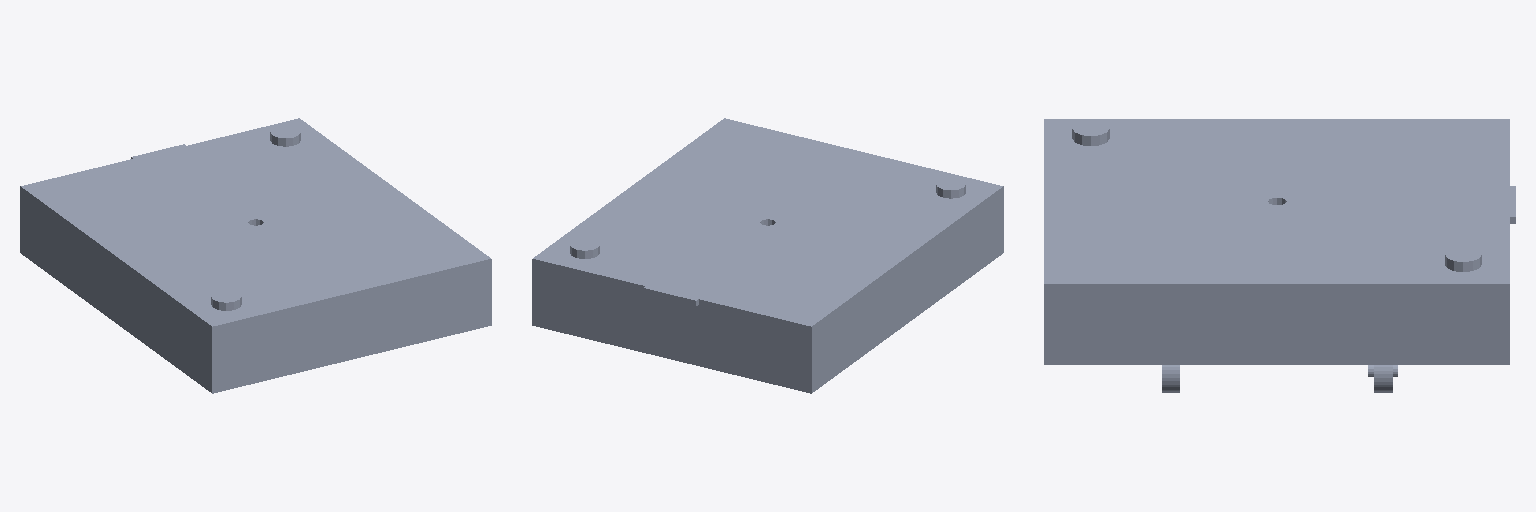
The robot description file, URDF, robot "agv_real":
<?xml version="1.0" encoding="utf-8"?>
<!-- This URDF was automatically created by SolidWorks to URDF Exporter! Originally created by [author] ([email redacted]) 
     Commit Version: 1.5.1-0-g916b5db  Build Version: 1.5.7152.31018
     For more information, please see http://wiki.ros.org/sw_urdf_exporter -->
<robot
  name="agv_real">
  <link
    name="base_footprint">
  </link>
  <link
    name="base_link">
    <inertial>
      <origin
        xyz="-4.16333634234434E-17 0.000119875147478033 -0.120056933559523"
        rpy="0 0 0" />
      <mass
        value="1.2" />
        <inertia
        ixx="1"
        ixy="0"
        ixz="0"
        iyy="1"
        iyz="0"
        izz="1" />
    </inertial>
    <visual>
      <origin
        xyz="0 0 0"
        rpy="0 0 0" />
      <geometry>
        <mesh
          filename="package://agv_real/meshes/base_link.STL" />
      </geometry>
      <material
        name="">
        <color
          rgba="0.666666666666667 0.698039215686274 0.768627450980392 1" />
      </material>
    </visual>
    <collision>
      <origin
        xyz="0 0 0"
        rpy="0 0 0" />
      <geometry>
        <mesh
          filename="package://agv_real/meshes/base_link.STL" />
      </geometry>
    </collision>
  </link>
  <joint
    name="foot2base"
    type="fixed">
    <origin
      xyz="0 0 0.3925"
      rpy="0 0 0" />
    <parent
      link="base_footprint" />
    <child
      link="base_link" />
    <axis
      xyz="0 0 0" />
  </joint>
  <link
    name="link_turn_1">
    <inertial>
      <origin
        xyz="0.00977957605544538 0 -0.0221025781959049"
        rpy="0 0 0" />
      <mass
        value="1.51073323776649" />
      <inertia
        ixx="0.00254264312406574"
        ixy="1.1275177792891E-19"
        ixz="0.000824346714844698"
        iyy="0.00283404681054336"
        iyz="-2.1574660967174E-19"
        izz="0.00237535494219059" />
    </inertial>
    <visual>
      <origin
        xyz="0 0 0"
        rpy="0 0 0" />
      <geometry>
        <mesh
          filename="package://agv_real/meshes/link_turn_1.STL" />
      </geometry>
      <material
        name="">
        <color
          rgba="0.666666666666667 0.698039215686274 0.768627450980392 1" />
      </material>
    </visual>
    <collision>
      <origin
        xyz="0 0 0"
        rpy="0 0 0" />
      <geometry>
        <mesh
          filename="package://agv_real/meshes/link_turn_1.STL" />
      </geometry>
    </collision>
  </link>
  <joint
    name="joint_turn_1"
    type="continuous">
    <origin
      xyz="0.30003 0.28496 -0.241"
      rpy="0 0 0" />
    <parent
      link="base_link" />
    <child
      link="link_turn_1" />
    <axis
      xyz="0 0 1" />

  </joint>
  <link
    name="link_wheel_1">
    <inertial>
      <origin
        xyz="0 0 5.55111512312578E-17"
        rpy="0 0 0" />
      <mass
        value="1.61428775009303" />
      <inertia
        ixx="0.0019531200226386"
        ixy="-1.03817629223929E-22"
        ixz="-1.2831782859717E-20"
        iyy="0.0019531200226386"
        iyz="6.23742612149849E-20"
        izz="0.00323362014940511" />
    </inertial>
    <visual>
      <origin
        xyz="0 0 0"
        rpy="0 0 0" />
      <geometry>
        <mesh
          filename="package://agv_real/meshes/link_wheel_1.STL" />
      </geometry>
      <material
        name="">
        <color
          rgba="0.666666666666667 0.698039215686274 0.768627450980392 1" />
      </material>
    </visual>
    <collision>
      <origin
        xyz="0 0 0"
        rpy="0 0 0" />
      <geometry>
        <mesh
          filename="package://agv_real/meshes/link_wheel_1.STL" />
      </geometry>
    </collision>
  </link>
  <joint
    name="joint_wheel_1"
    type="continuous">
    <origin
      xyz="0.0625 0 -0.089"
      rpy="1.5708 0 3.1416" />
    <parent
      link="link_turn_1" />
    <child
      link="link_wheel_1" />
    <axis
      xyz="0 0 1" />
  </joint>
  <link
    name="link_turn_2">
    <inertial>
      <origin
        xyz="0.00977957605544538 5.55111512312578E-17 -0.022102578195905"
        rpy="0 0 0" />
      <mass
        value="1.51073323776649" />
      <inertia
        ixx="0.00254264312406574"
        ixy="9.05562260497264E-19"
        ixz="0.000824346714844697"
        iyy="0.00283404681054336"
        iyz="-1.385927775418E-18"
        izz="0.00237535494219059" />
    </inertial>
    <visual>
      <origin
        xyz="0 0 0"
        rpy="0 0 0" />
      <geometry>
        <mesh
          filename="package://agv_real/meshes/link_turn_2.STL" />
      </geometry>
      <material
        name="">
        <color
          rgba="0.666666666666667 0.698039215686274 0.768627450980392 1" />
      </material>
    </visual>
    <collision>
      <origin
        xyz="0 0 0"
        rpy="0 0 0" />
      <geometry>
        <mesh
          filename="package://agv_real/meshes/link_turn_2.STL" />
      </geometry>
    </collision>
  </link>
  <joint
    name="joint_turn_2"
    type="continuous">
    <origin
      xyz="-0.30003 0.28496 -0.241"
      rpy="0 0 0" />
    <parent
      link="base_link" />
    <child
      link="link_turn_2" />
    <axis
      xyz="0 0 1" />

  </joint>
  <link
    name="link_wheel_2">
    <inertial>
      <origin
        xyz="-5.55111512312578E-17 0 5.55111512312578E-17"
        rpy="0 0 0" />
      <mass
        value="1.61428775009303" />
      <inertia
        ixx="0.0019531200226386"
        ixy="-1.42089143883198E-34"
        ixz="-1.23558270378388E-20"
        iyy="0.0019531200226386"
        iyz="1.87050615219907E-21"
        izz="0.00323362014940511" />
    </inertial>
    <visual>
      <origin
        xyz="0 0 0"
        rpy="0 0 0" />
      <geometry>
        <mesh
          filename="package://agv_real/meshes/link_wheel_2.STL" />
      </geometry>
      <material
        name="">
        <color
          rgba="0.666666666666667 0.698039215686274 0.768627450980392 1" />
      </material>
    </visual>
    <collision>
      <origin
        xyz="0 0 0"
        rpy="0 0 0" />
      <geometry>
        <mesh
          filename="package://agv_real/meshes/link_wheel_2.STL" />
      </geometry>
    </collision>
  </link>
  <joint
    name="joint_wheel_2"
    type="continuous">
    <origin
      xyz="0.0625 0 -0.089"
      rpy="1.5708 0 3.1416" />
    <parent
      link="link_turn_2" />
    <child
      link="link_wheel_2" />
    <axis
      xyz="0 0 1" />
  </joint>
  <link
    name="link_turn_3">
    <inertial>
      <origin
        xyz="0.00977957605544538 0 -0.022102578195905"
        rpy="0 0 0" />
      <mass
        value="1.51073323776649" />
      <inertia
        ixx="0.00254264312406574"
        ixy="-1.26097210048081E-19"
        ixz="0.000824346714844698"
        iyy="0.00283404681054336"
        iyz="2.16794722339323E-19"
        izz="0.00237535494219059" />
    </inertial>
    <visual>
      <origin
        xyz="0 0 0"
        rpy="0 0 0" />
      <geometry>
        <mesh
          filename="package://agv_real/meshes/link_turn_3.STL" />
      </geometry>
      <material
        name="">
        <color
          rgba="0.666666666666667 0.698039215686274 0.768627450980392 1" />
      </material>
    </visual>
    <collision>
      <origin
        xyz="0 0 0"
        rpy="0 0 0" />
      <geometry>
        <mesh
          filename="package://agv_real/meshes/link_turn_3.STL" />
      </geometry>
    </collision>
  </link>
  <joint
    name="joint_turn_3"
    type="continuous">
    <origin
      xyz="-0.30003 -0.28496 -0.241"
      rpy="0 0 0" />
    <parent
      link="base_link" />
    <child
      link="link_turn_3" />
    <axis
      xyz="0 0 1" />

  </joint>
  <link
    name="link_wheel_3">
    <inertial>
      <origin
        xyz="0 2.77555756156289E-17 5.55111512312578E-17"
        rpy="0 0 0" />
      <mass
        value="1.61428775009303" />
      <inertia
        ixx="0.0019531200226386"
        ixy="8.25422893665097E-35"
        ixz="-1.23558270378389E-20"
        iyy="0.0019531200226386"
        iyz="3.42695163846761E-20"
        izz="0.00323362014940511" />
    </inertial>
    <visual>
      <origin
        xyz="0 0 0"
        rpy="0 0 0" />
      <geometry>
        <mesh
          filename="package://agv_real/meshes/link_wheel_3.STL" />
      </geometry>
      <material
        name="">
        <color
          rgba="0.666666666666667 0.698039215686274 0.768627450980392 1" />
      </material>
    </visual>
    <collision>
      <origin
        xyz="0 0 0"
        rpy="0 0 0" />
      <geometry>
        <mesh
          filename="package://agv_real/meshes/link_wheel_3.STL" />
      </geometry>
    </collision>
  </link>
  <joint
    name="joint_wheel_3"
    type="continuous">
    <origin
      xyz="0.0625 0 -0.089"
      rpy="1.5708 0 3.1416" />
    <parent
      link="link_turn_3" />
    <child
      link="link_wheel_3" />
    <axis
      xyz="0 0 1" />
  </joint>
  <link
    name="link_turn_4">
    <inertial>
      <origin
        xyz="0.00977957605544538 -5.55111512312578E-17 -0.0221025781959049"
        rpy="0 0 0" />
      <mass
        value="1.51073323776649" />
      <inertia
        ixx="0.00254264312406573"
        ixy="1.97818720467024E-19"
        ixz="0.000824346714844697"
        iyy="0.00283404681054336"
        iyz="-4.17435819027717E-19"
        izz="0.00237535494219059" />
    </inertial>
    <visual>
      <origin
        xyz="0 0 0"
        rpy="0 0 0" />
      <geometry>
        <mesh
          filename="package://agv_real/meshes/link_turn_4.STL" />
      </geometry>
      <material
        name="">
        <color
          rgba="0.666666666666667 0.698039215686274 0.768627450980392 1" />
      </material>
    </visual>
    <collision>
      <origin
        xyz="0 0 0"
        rpy="0 0 0" />
      <geometry>
        <mesh
          filename="package://agv_real/meshes/link_turn_4.STL" />
      </geometry>
    </collision>
  </link>
  <joint
    name="joint_turn_4"
    type="continuous">
    <origin
      xyz="0.30003 -0.28496 -0.241"
      rpy="0 0 0" />
    <parent
      link="base_link" />
    <child
      link="link_turn_4" />
    <axis
      xyz="0 0 1" />

  </joint>
  <link
    name="link_wheel_4">
    <inertial>
      <origin
        xyz="0 2.77555756156289E-17 1.66533453693773E-16"
        rpy="0 0 0" />
      <mass
        value="1.61428775009303" />
      <inertia
        ixx="0.0019531200226386"
        ixy="-1.44141714161091E-33"
        ixz="-1.23558270378386E-20"
        iyy="0.0019531200226386"
        iyz="-3.24343282116005E-20"
        izz="0.00323362014940511" />
    </inertial>
    <visual>
      <origin
        xyz="0 0 0"
        rpy="0 0 0" />
      <geometry>
        <mesh
          filename="package://agv_real/meshes/link_wheel_4.STL" />
      </geometry>
      <material
        name="">
        <color
          rgba="0.666666666666667 0.698039215686274 0.768627450980392 1" />
      </material>
    </visual>
    <collision>
      <origin
        xyz="0 0 0"
        rpy="0 0 0" />
      <geometry>
        <mesh
          filename="package://agv_real/meshes/link_wheel_4.STL" />
      </geometry>
    </collision>
  </link>
  <joint
    name="joint_wheel_4"
    type="continuous">
    <origin
      xyz="0.0625 0 -0.089"
      rpy="1.5708 0 3.1416" />
    <parent
      link="link_turn_4" />
    <child
      link="link_wheel_4" />
    <axis
      xyz="0 0 1" />
  </joint>

<!-- 雷达 -->

  <link
  name="laser_1">
  </link>

  
  <joint
    name="joint_laser_1"
    type="fixed">
    <origin
      xyz="0.586 0.486 0.04"
      rpy="3.1415 0 0.70" />
    <parent
      link="base_link" />
    <child
      link="laser_1" />
  </joint>

  
  <link
    name="laser_2">
  </link>
  <joint
    name="joint_laser_2"
    type="fixed">
    <origin
      xyz="-0.586 -0.486 0.04"
      rpy="3.1415 0 -2.356194" />
    <parent
      link="base_link" />
    <child
      link="laser_2" />
  </joint>


  <!-- imu -->
  
  
  <link
  name="link_imu">
</link>
<joint
  name="joint_link_imu"
  type="fixed">
  <origin
    xyz="0 0 0.03"
    rpy="0 0 0" />
  <parent
    link="base_link" />
  <child
    link="link_imu" />
</joint>

<!-- 相机 -->
<link
name="camera1_link">
</link>

<link name="camera_link_fake">
</link>


<joint
name="joint_camera"
type="fixed">
<origin
  xyz="0.5 0 0.01"
  rpy="0 0 0" />
<parent
  link="base_link" />
<child
  link="camera1_link" />
</joint>

<joint name="camera_joint_fake" type="fixed">
  <origin xyz="0 0 0" rpy="-1.5708 0 -1.5708 "/>
  <parent link="camera1_link"/>
  <child link="camera_link_fake"/>
</joint>

<!-- roscontrol -->
<gazebo>
  <plugin name="gazebo_ros_control" filename="libgazebo_ros_control.so">
    <robotNamespace>/agv_sim</robotNamespace>
  </plugin>
</gazebo>



<gazebo reference="camera1_link">
  <sensor type="depth" name="kinect_camera">
    <always_on>true</always_on>
    <update_rate>20.0</update_rate>
    <camera>
      <horizontal_fov>1.0472</horizontal_fov>
      <image>
        <format>R8G8B8</format>
        <width>1920</width>
        <height>1080</height>
      </image>
      <clip>
        <near>0.5</near>
        <far>8.0</far>
      </clip>
</camera>

<plugin name="kinect_camera_controller" filename="libgazebo_ros_openni_kinect.so">
  <cameraName>/kinect_camera</cameraName>
  <alwaysOn>true</alwaysOn>
  <updateRate>0</updateRate>
  <imageTopicName>rgb/image_raw</imageTopicName>
  <depthImageTopicName>depth/image_raw</depthImageTopicName>
  <pointCloudTopicName>depth/points</pointCloudTopicName>
  <cameraInfoTopicName>rgb/camera_info</cameraInfoTopicName>
  <depthImageCameraInfoTopicName>depth/camera_info</depthImageCameraInfoTopicName>
  <frameName>camera_link_fake</frameName>
  <baseline>0.1</baseline>
  <distortion_k1>0.0</distortion_k1>
  <distortion_k2>0.0</distortion_k2>
  <distortion_k3>0.0</distortion_k3>
  <distortion_t1>0.0</distortion_t1>
  <distortion_t2>0.0</distortion_t2>
  <pointCloudCutoff>0.4</pointCloudCutoff>
  <pointCloudCutoffMax>3.0</pointCloudCutoffMax>

</plugin>




</sensor>



</gazebo>



<!-- 雷达插件 -->

<gazebo reference="laser_1">
  <sensor type="ray" name="rplidar_sensor1">
    <pose>0 0 0 0 0 0</pose>
    <visualize>true</visualize>
    <update_rate>15</update_rate>
    <ray>
      <scan>
        <horizontal>
          <samples>1400</samples>
          <resolution>1</resolution>
          <!--min_angle>-1.570796</min_angle>
          <max_angle>1.570796</max_angle-->
          <min_angle>-2.356194</min_angle>
          <max_angle>2.356194</max_angle>
        </horizontal>
      </scan>
      <range>
        <min>0.2</min>
        <max>25.0</max>
        <resolution>0.002</resolution>
      </range>
      <noise>
        <type>gaussian</type>
        <!-- Noise parameters based on published spec for Hokuyo laser
             achieving "+-30mm" accuracy at range < 10m.  A mean of 0.0m and
             stddev of 0.01m will put 99.7% of samples within 0.03m of the true
             reading. -->
        <mean>0.0</mean>
        <stddev>0.01</stddev>
      </noise>
    </ray>
    <plugin name="gazebo_ros_head_hokuyo_controller" filename="libgazebo_ros_laser.so">
      <topicName>/scan_1</topicName>
      <frameName>laser_1</frameName>
    </plugin>
  </sensor>
</gazebo>



<gazebo reference="laser_2">
  <sensor type="ray" name="rplidar_sensor2">
    <pose>0 0 0 0 0 0</pose>
    <visualize>true</visualize>
    <update_rate>15</update_rate>
    <ray>
      <scan>
        <horizontal>
          <samples>1400</samples>
          <resolution>1</resolution>
          <!--min_angle>-1.570796</min_angle>
          <max_angle>1.570796</max_angle-->
            <min_angle>-2.356194</min_angle>
            <max_angle>2.356194</max_angle>
        </horizontal>
      </scan>
      <range>
        <min>0.2</min>
        <max>25.0</max>
        <resolution>0.002</resolution>
      </range>
      <noise>
        <type>gaussian</type>
        <!-- Noise parameters based on published spec for Hokuyo laser
             achieving "+-30mm" accuracy at range < 10m.  A mean of 0.0m and
             stddev of 0.01m will put 99.7% of samples within 0.03m of the true
             reading. -->
        <mean>0.0</mean>
        <stddev>0.01</stddev>
      </noise>
    </ray>
    <plugin name="gazebo_ros_head_hokuyo_controller" filename="libgazebo_ros_laser.so">
      <topicName>/scan_2</topicName>
      <frameName>laser_2</frameName>
    </plugin>
  </sensor>
</gazebo>



<transmission name="tran_turn1">
  <type>transmission_interface/SimpleTransmission</type>
    <joint name="joint_turn_1">
      <hardwareInterface>hardware_interface/VelocityJointInterface</hardwareInterface>
    </joint>
    <actuator name="motorturn1">
      <hardwareInterface>hardware_interface/VelocityJointInterface</hardwareInterface>
      <mechanicalReduction>1</mechanicalReduction>
    </actuator>
</transmission>

<transmission name="tran_turn2">
  <type>transmission_interface/SimpleTransmission</type>
    <joint name="joint_turn_3">
      <hardwareInterface>hardware_interface/VelocityJointInterface</hardwareInterface>
    </joint>
    <actuator name="motorturn2">
      <hardwareInterface>hardware_interface/VelocityJointInterface</hardwareInterface>
      <mechanicalReduction>1</mechanicalReduction>
    </actuator>
</transmission>



<transmission name="tran_wheel1">
  <type>transmission_interface/SimpleTransmission</type>
    <joint name="joint_wheel_1">
      <hardwareInterface>hardware_interface/VelocityJointInterface</hardwareInterface>
    </joint>
    <actuator name="motorwheel1">
      <hardwareInterface>hardware_interface/VelocityJointInterface</hardwareInterface>
      <mechanicalReduction>1</mechanicalReduction>
    </actuator>
</transmission>

<transmission name="tran_wheel2">
  <type>transmission_interface/SimpleTransmission</type>
    <joint name="joint_wheel_3">
      <hardwareInterface>hardware_interface/VelocityJointInterface</hardwareInterface>
    </joint>
    <actuator name="motorwheel2">
      <hardwareInterface>hardware_interface/VelocityJointInterface</hardwareInterface>
      <mechanicalReduction>1</mechanicalReduction>
    </actuator>
</transmission>


<gazebo reference="link_imu">
  <gravity>true</gravity>
  <sensor name="imu_sensor" type="imu">
      <always_on>true</always_on>
      <update_rate>1000</update_rate>
      <visualize>true</visualize>
      <topic>__default_topic__</topic>
      <plugin filename="libgazebo_ros_imu_sensor.so" name="imu_plugin">
          <topicName>imu_data</topicName>
          <bodyName>base_footprint</bodyName>
          <updateRateHZ>1000.0</updateRateHZ>
          <gaussianNoise>0.0</gaussianNoise>
          <xyzOffset>0 0 0</xyzOffset>     
          <rpyOffset>0 0 0</rpyOffset>
          <frameName>link_imu</frameName>        
      </plugin>
      <pose>0 0 0 0 0 0</pose>
  </sensor>
</gazebo>










</robot>

--- Render facts (derived) ---
The picture shows the robot from 3 angles, left to right: view 1: azimuth 30°, elevation 25°; view 2: azimuth 150°, elevation 25°; view 3: azimuth 270°, elevation 25°; orthographic projection.
Robot: agv_real — 15 links, 14 joints (8 continuous, 6 fixed); root link base_footprint; default pose: every joint at zero.
Visible links, largest first — view 1: base_link; view 2: base_link; view 3: base_link, link_wheel_1.
Boxes of the visible links, x1,y1,x2,y2 form: base_link: (20,118,491,393); base_link: (532,118,1003,393); base_link: (1044,119,1515,364); link_wheel_1: (1374,365,1392,392).
Bounding box of the posed robot: 1.05 × 1.26 × 0.4225 m (x, y, z).
Meshes: 9 distinct files referenced, 8 mesh visuals loaded (8 binary STL); not drawn: 1 (reference not matched to a file when rendering).
